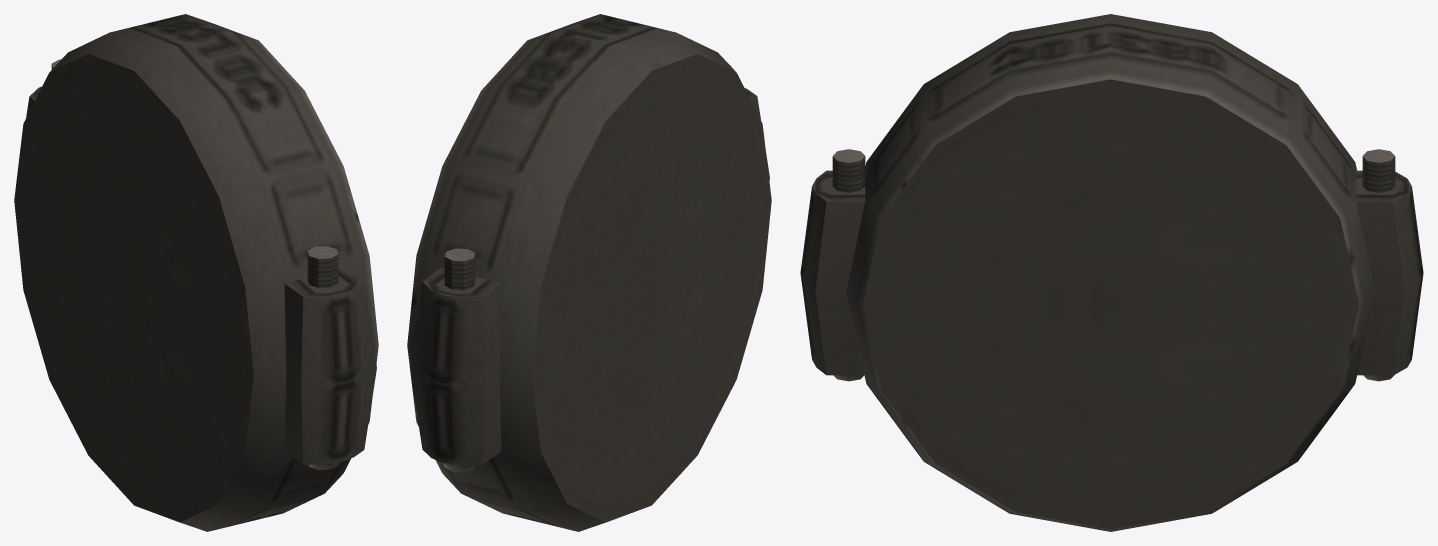
Rendered from com_pipe_4_coupling_white_clean_lod0.glb.
The picture shows the model from 3 angles, left to right: view 1: azimuth 30°, elevation 25°; view 2: azimuth 150°, elevation 25°; view 3: azimuth 270°, elevation 25°; orthographic projection. The views are drawn at different scales.
Parts seen in each view (by area): view 1: surf0; view 2: surf0; view 3: surf0.
Boxes of the visible parts, box(x1,y1,x2,y2) form: surf0: box(14, 14, 378, 531); surf0: box(407, 14, 771, 531); surf0: box(800, 14, 1423, 531).
Size of the model in its own units: 2.54 by 9 by 10.59.
